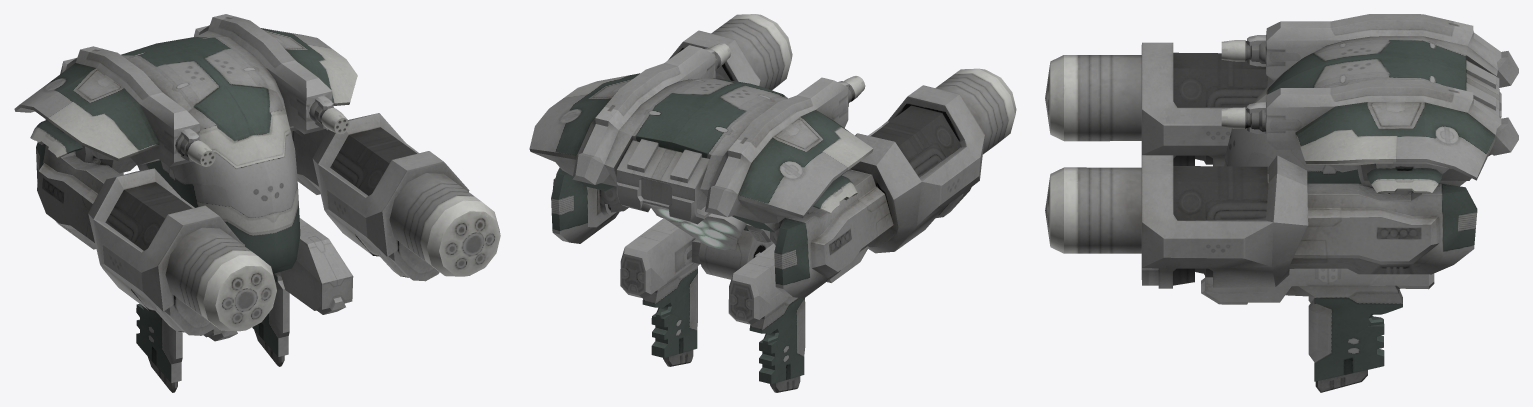
File: 16206_lite.glb
The picture shows the model from 3 angles, left to right: view 1: azimuth 30°, elevation 25°; view 2: azimuth 150°, elevation 25°; view 3: azimuth 270°, elevation 25°; orthographic projection. The views are drawn at different scales.
Parts seen in each view (by area): view 1: ship; view 2: ship; view 3: ship.
Boxes of the visible parts, x1,y1,x2,y2 form: ship: (14, 14, 500, 392); ship: (529, 14, 1016, 392); ship: (1045, 14, 1518, 392).
Bounding box in the file's own units: 0.0745 × 0.0672 × 0.0917.
Materials: 1 (1 with a texture image).
